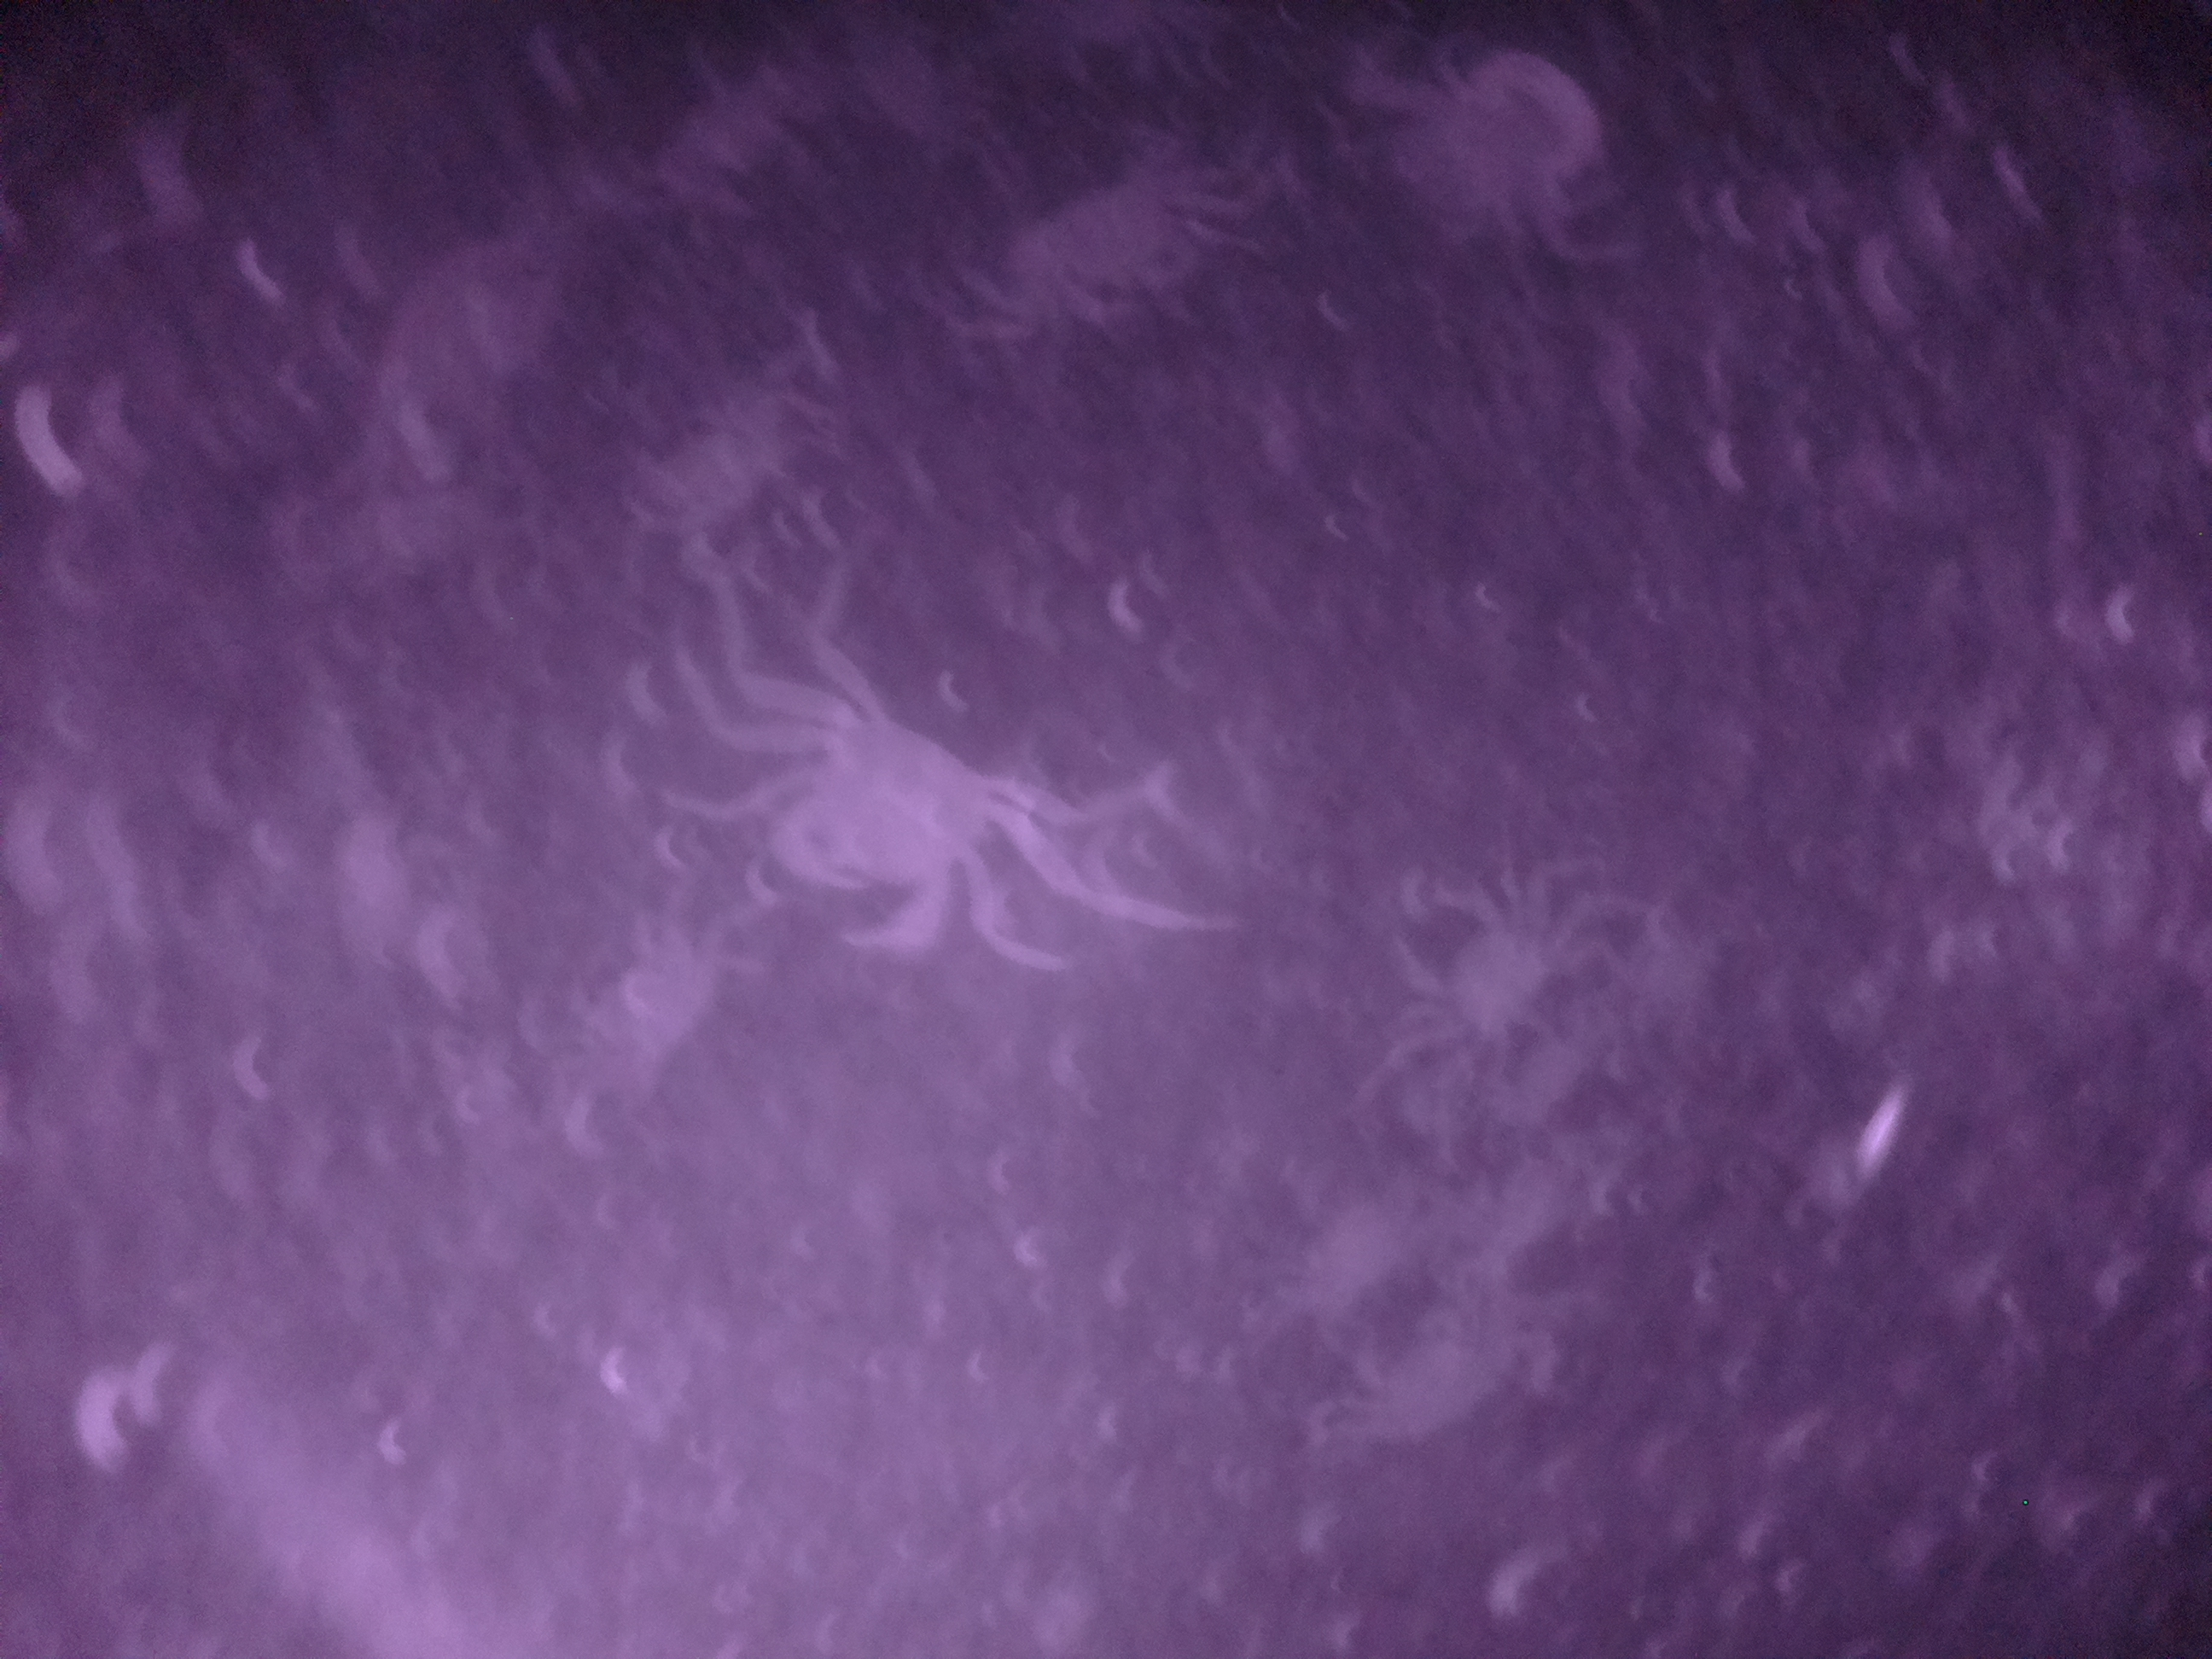Crab: (1372, 842, 1590, 1068)
